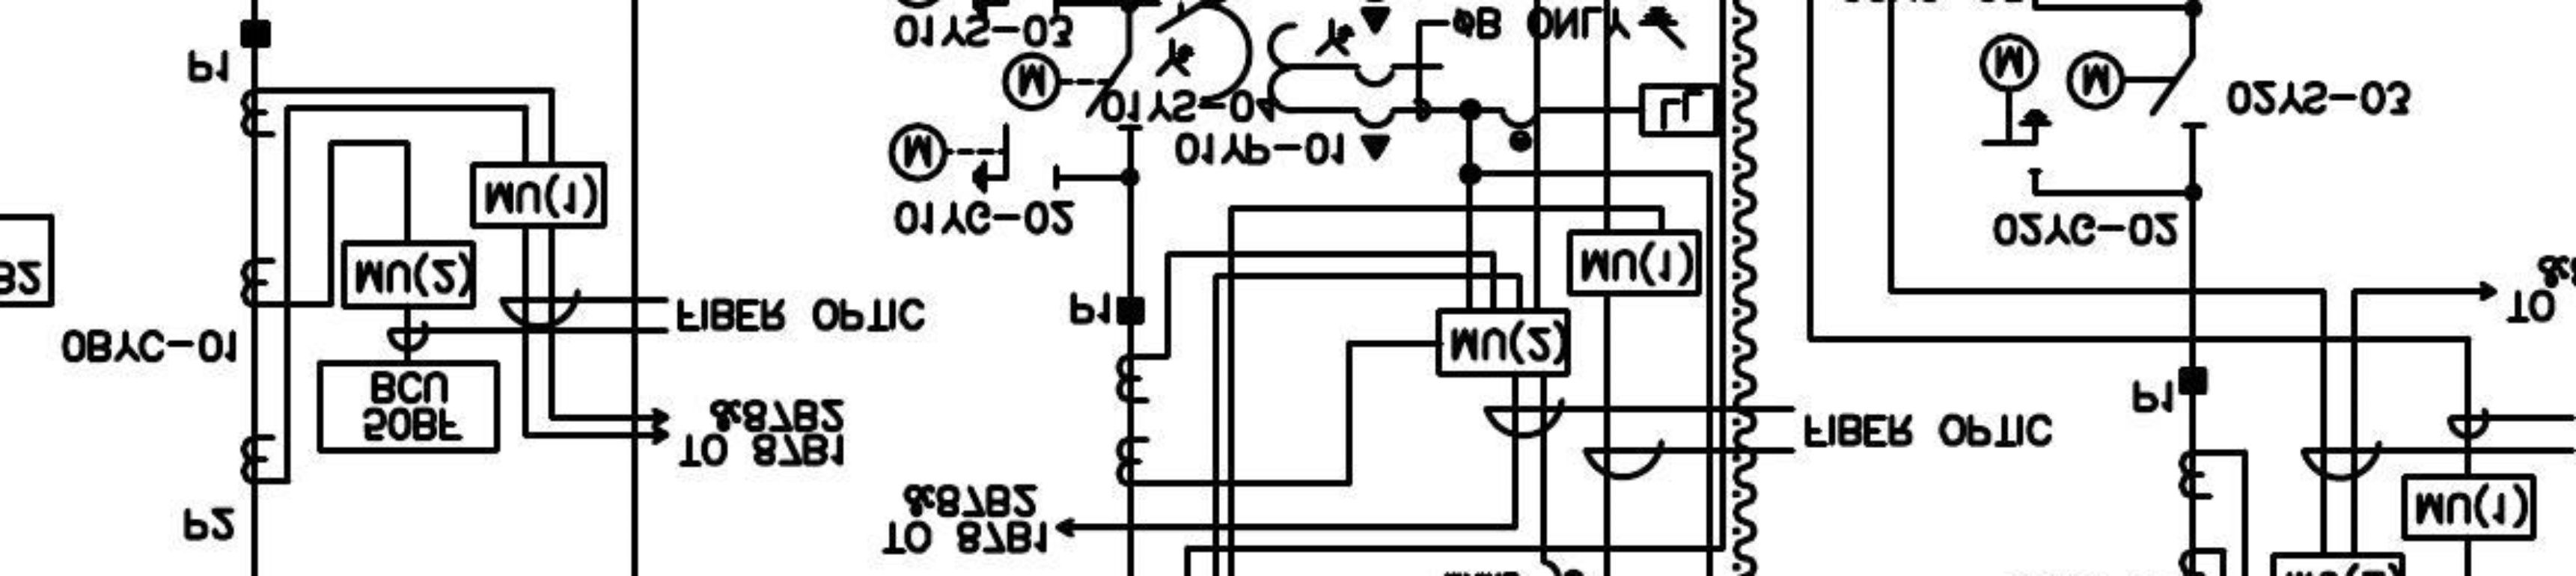115_1way_ds_w_motor: (2063, 48, 2208, 130), (999, 51, 1145, 131)
115_gs_w_motor: (887, 121, 1061, 195), (1978, 31, 2054, 176)
LL: (1638, 82, 1720, 138)
MU: (340, 238, 478, 312), (1434, 307, 1572, 379), (468, 159, 606, 230), (1566, 228, 1704, 297), (2400, 473, 2538, 542)
